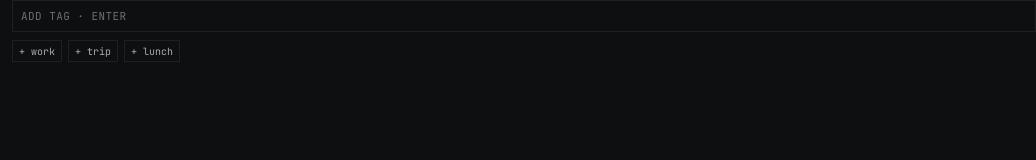
Test: TagInput › filters suggestions by the draft, case-insensitively
Type "TR" into the field labelled "ADD TAG".
click(524, 16); type("TR")  # box [21,5,1027,27]
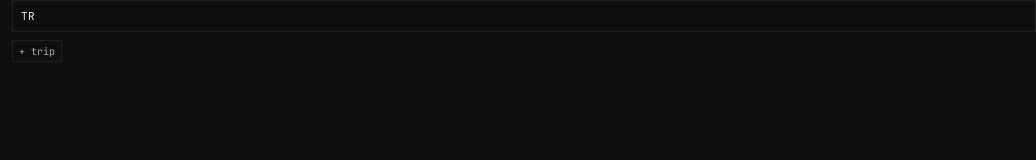
expect the button "+ trip" is shown: met, box [12,40,62,62]
expect the button "+ work" is gone: met
expect the button "+ lunch" is gone: met
